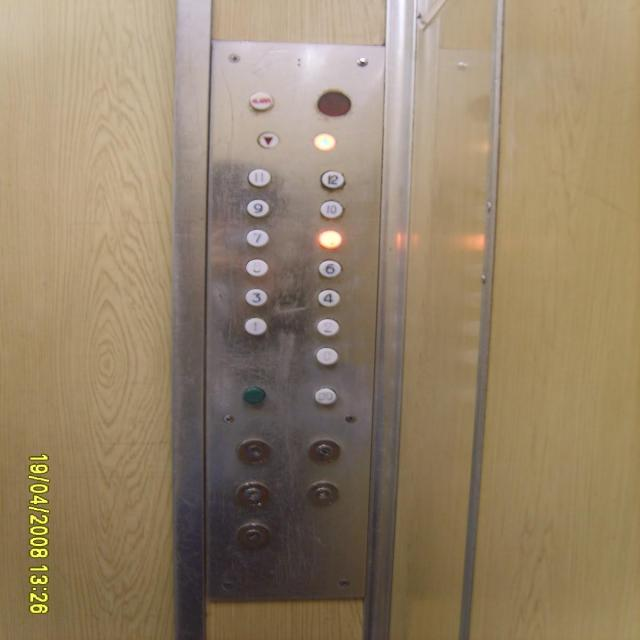0: (313, 345, 341, 366)
1: (242, 315, 268, 336)
10: (318, 199, 345, 220)
11: (245, 167, 273, 189)
12: (318, 168, 347, 191)
2: (313, 316, 340, 337)
3: (242, 286, 271, 308)
4: (315, 287, 342, 308)
5: (243, 256, 270, 278)
6: (315, 258, 345, 278)
7: (244, 228, 271, 249)
9: (245, 198, 271, 218)
DC: (311, 385, 338, 406)
down: (254, 129, 281, 150)
empty: (313, 88, 353, 119), (315, 228, 345, 251), (242, 386, 267, 404)
keyhole: (234, 478, 272, 508), (234, 437, 273, 466), (303, 479, 342, 508), (234, 520, 272, 549), (306, 438, 343, 465)
text_alarm bell: (247, 90, 276, 114)
up: (310, 130, 337, 152)
